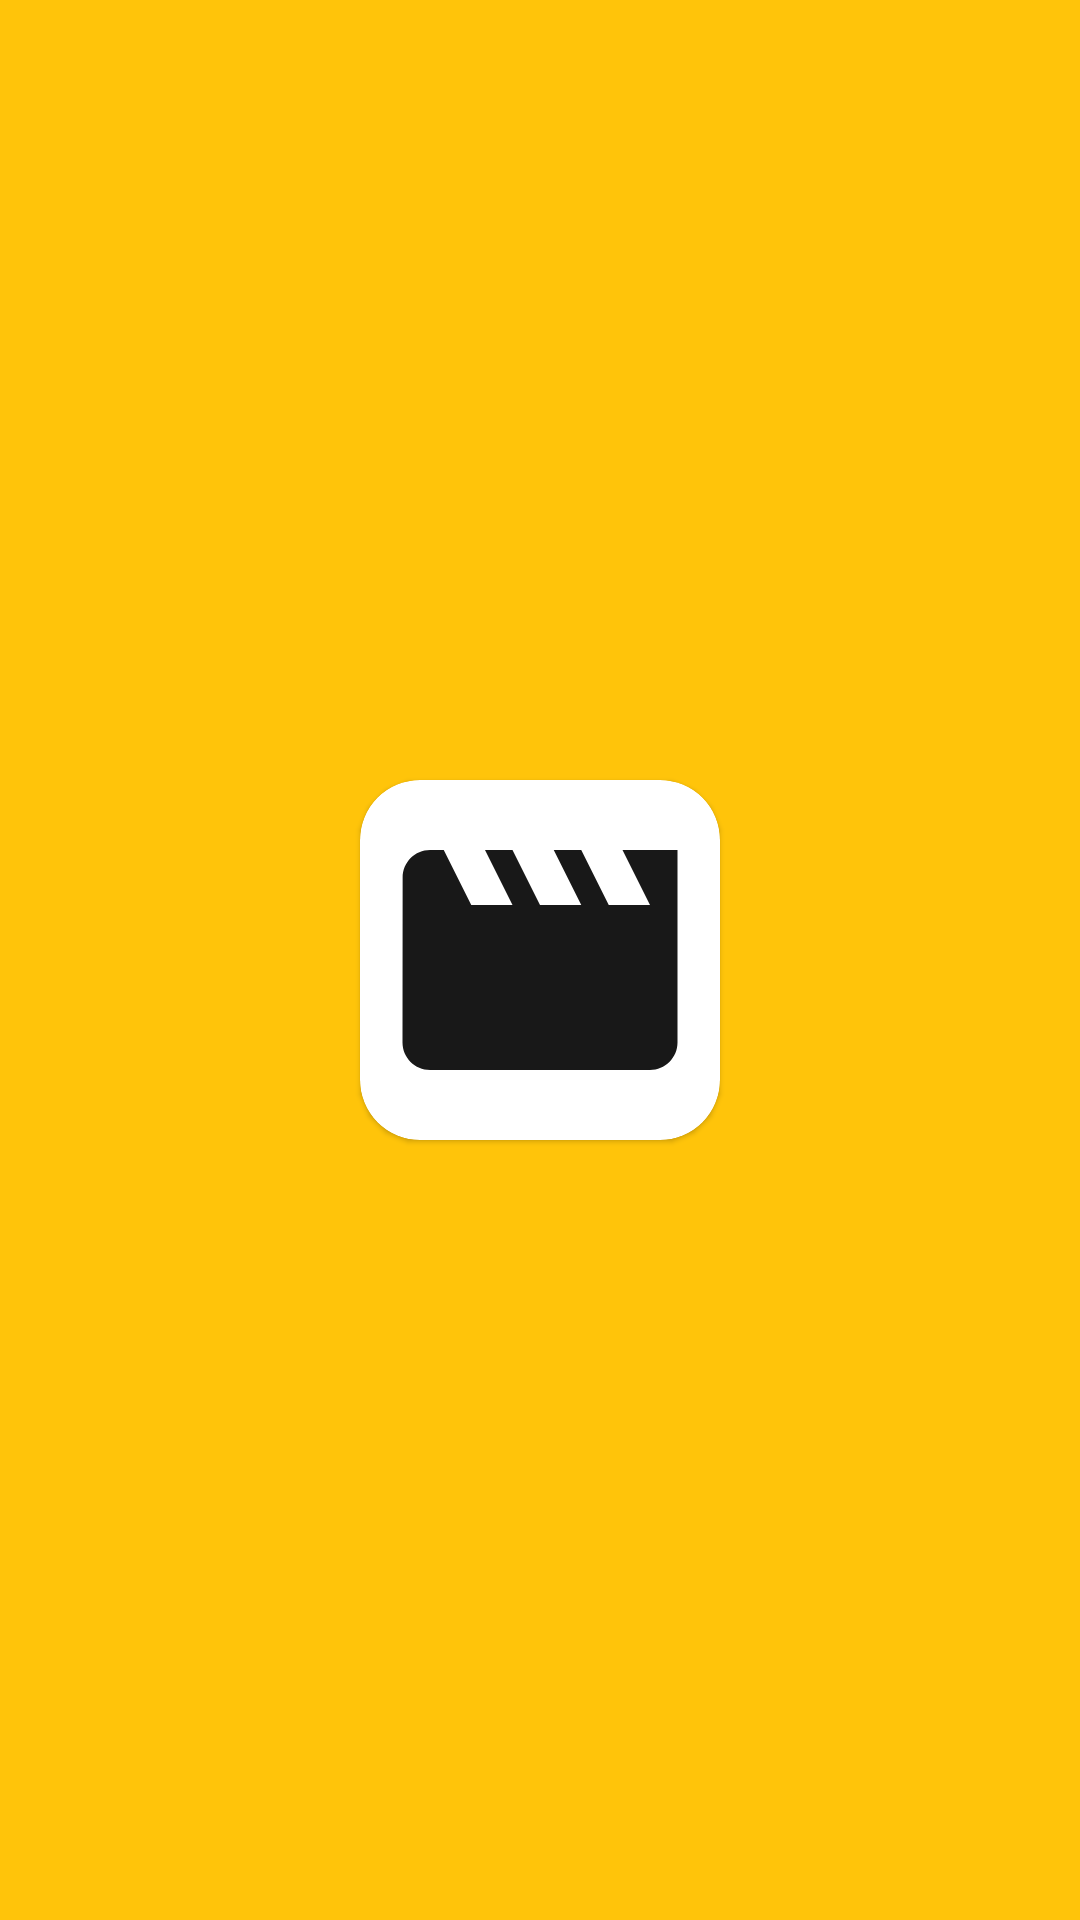

Icons on this 1080px×1920px Android screen, each with the point to tap as (x,y):
movies: (540,960)
